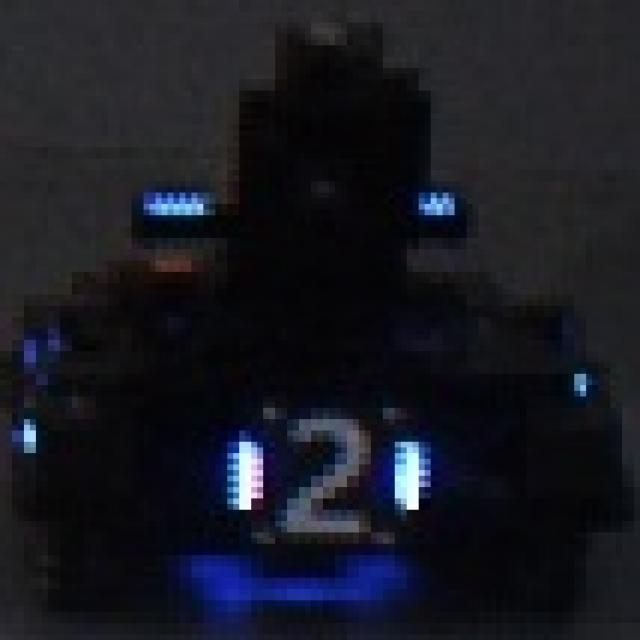B2: (227, 408, 437, 544)
